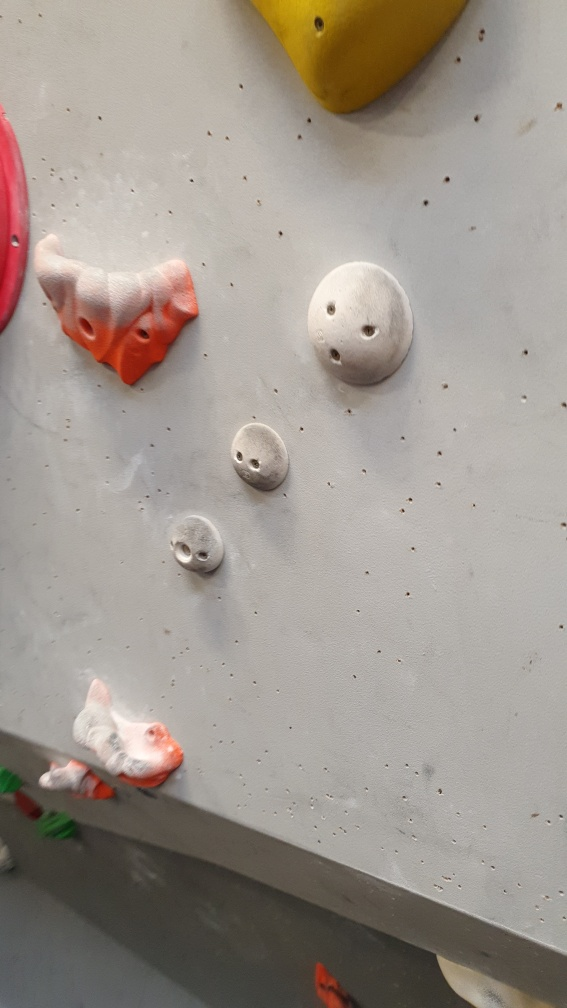Jug: (32, 232, 201, 388), (72, 675, 188, 793)
Sloper: (309, 262, 417, 390), (227, 421, 291, 495), (167, 513, 230, 578)
